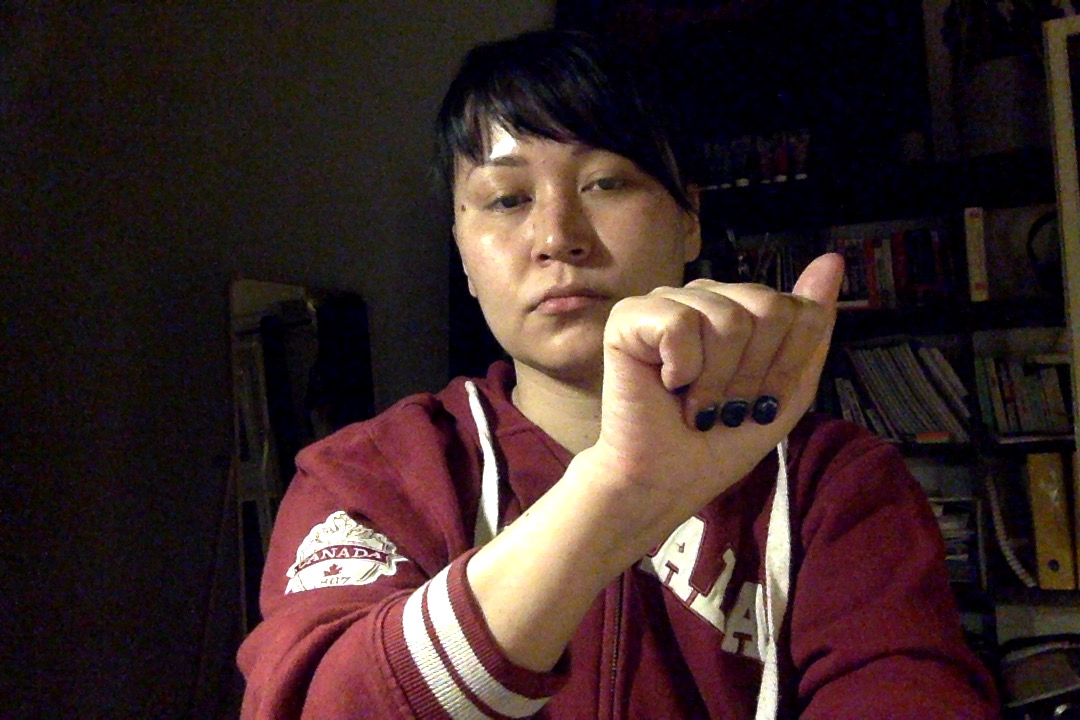a: (570, 250, 867, 523)
